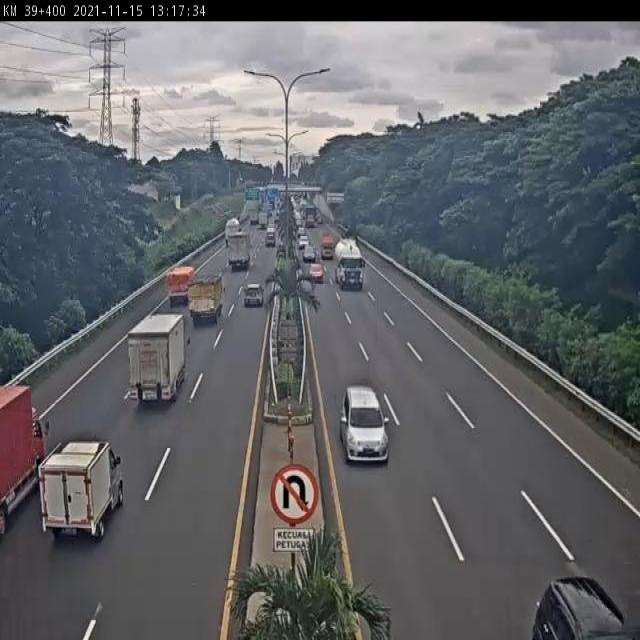Car: (338, 384, 389, 463), (243, 283, 264, 307), (307, 263, 327, 283), (296, 232, 314, 250), (301, 247, 317, 265)
Truck: (38, 438, 125, 541), (0, 374, 56, 532), (531, 576, 634, 638), (126, 313, 186, 404), (187, 272, 224, 325), (162, 259, 203, 304), (335, 240, 365, 290), (226, 228, 252, 271), (223, 214, 242, 238), (321, 233, 336, 260), (303, 205, 317, 228), (247, 202, 259, 225), (265, 228, 276, 246), (246, 188, 260, 201), (293, 194, 303, 208), (294, 212, 302, 229), (275, 198, 282, 213), (268, 196, 274, 210)
